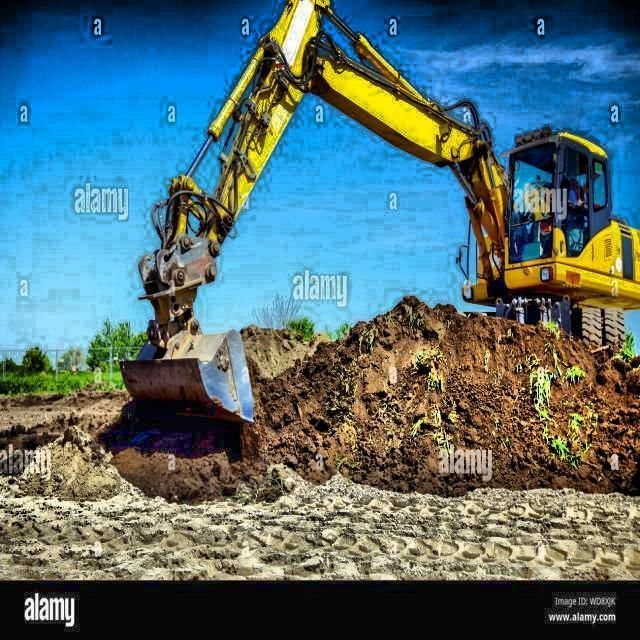excavator: (104, 0, 640, 435)
